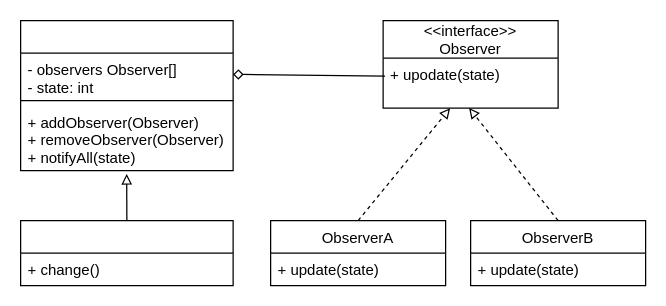
Some shapes in this 666 by 306 pixel diagram are drawn without their labels. Here are the shapes that lost their labels. From the top down, the box of each, then its label:
(19, 19, 233, 171): Observable
(19, 219, 233, 286): ObserverImpl
